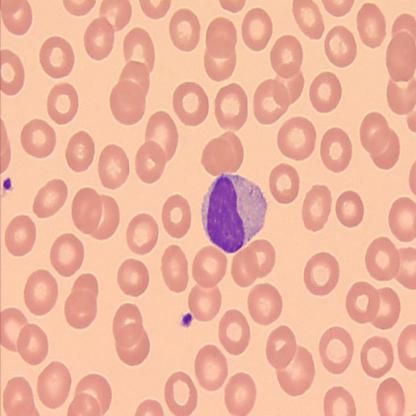Lymphocyte: (201, 172, 268, 254)
